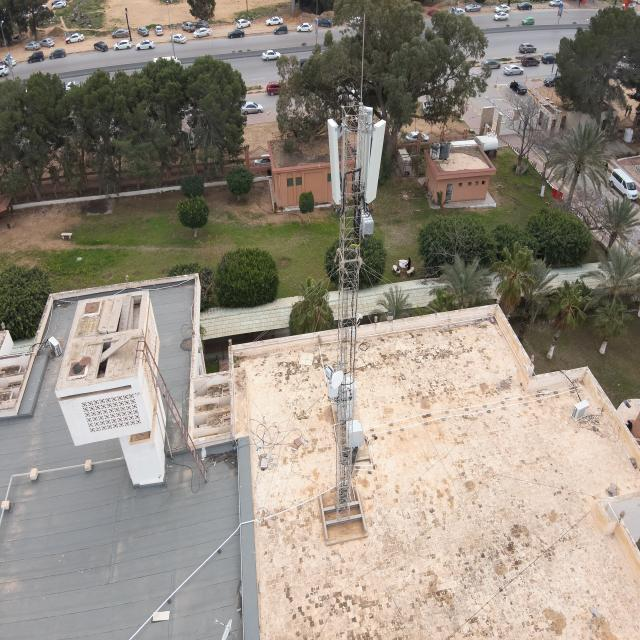antenna: (365, 118, 387, 204), (325, 116, 345, 206), (355, 104, 373, 184)
lighnig-rad: (360, 11, 366, 102)
microware-dish: (325, 363, 344, 389)
power-box: (326, 377, 340, 398)
radio-unit: (358, 203, 375, 236)
